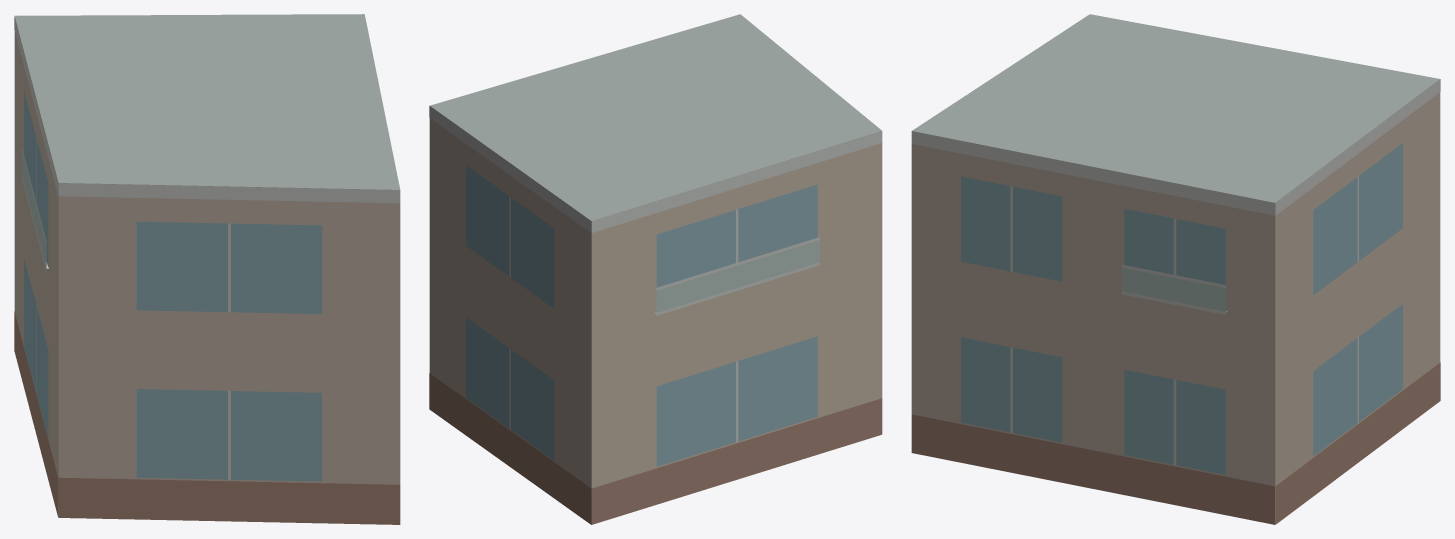
The model's file is survey-upis-32492440.glb.
3 views of the same model, side by side, from view 1: azimuth 30°, elevation 25°; view 2: azimuth 150°, elevation 25°; view 3: azimuth 270°, elevation 25° (orthographic). The views are drawn at different scales.
Visible parts, largest first — view 1: survey-upis-32492440.tmp; view 2: survey-upis-32492440.tmp; view 3: survey-upis-32492440.tmp.
Boxes of the visible parts, box(x1,y1,x2,y2) form: survey-upis-32492440.tmp: box(14, 14, 400, 524); survey-upis-32492440.tmp: box(429, 14, 882, 524); survey-upis-32492440.tmp: box(911, 14, 1440, 524).
Bounding box in the file's own units: 7.69 × 6.1 × 9.09.
